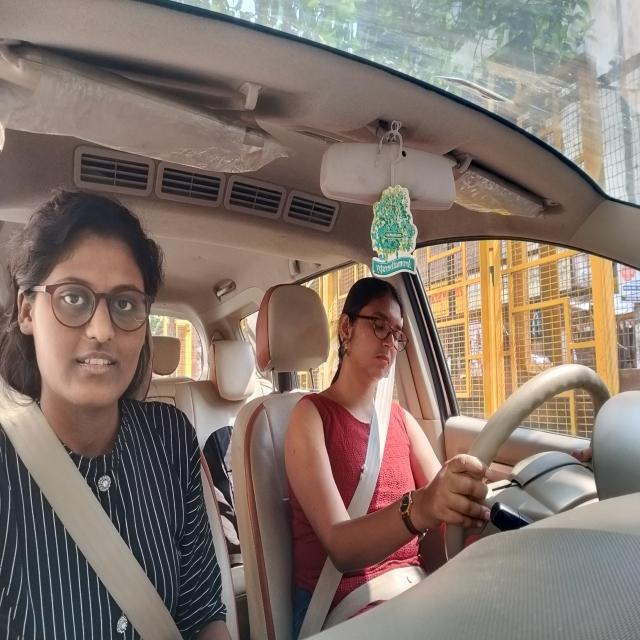drowsy: (336, 269, 407, 394)
person: (14, 192, 156, 426)
